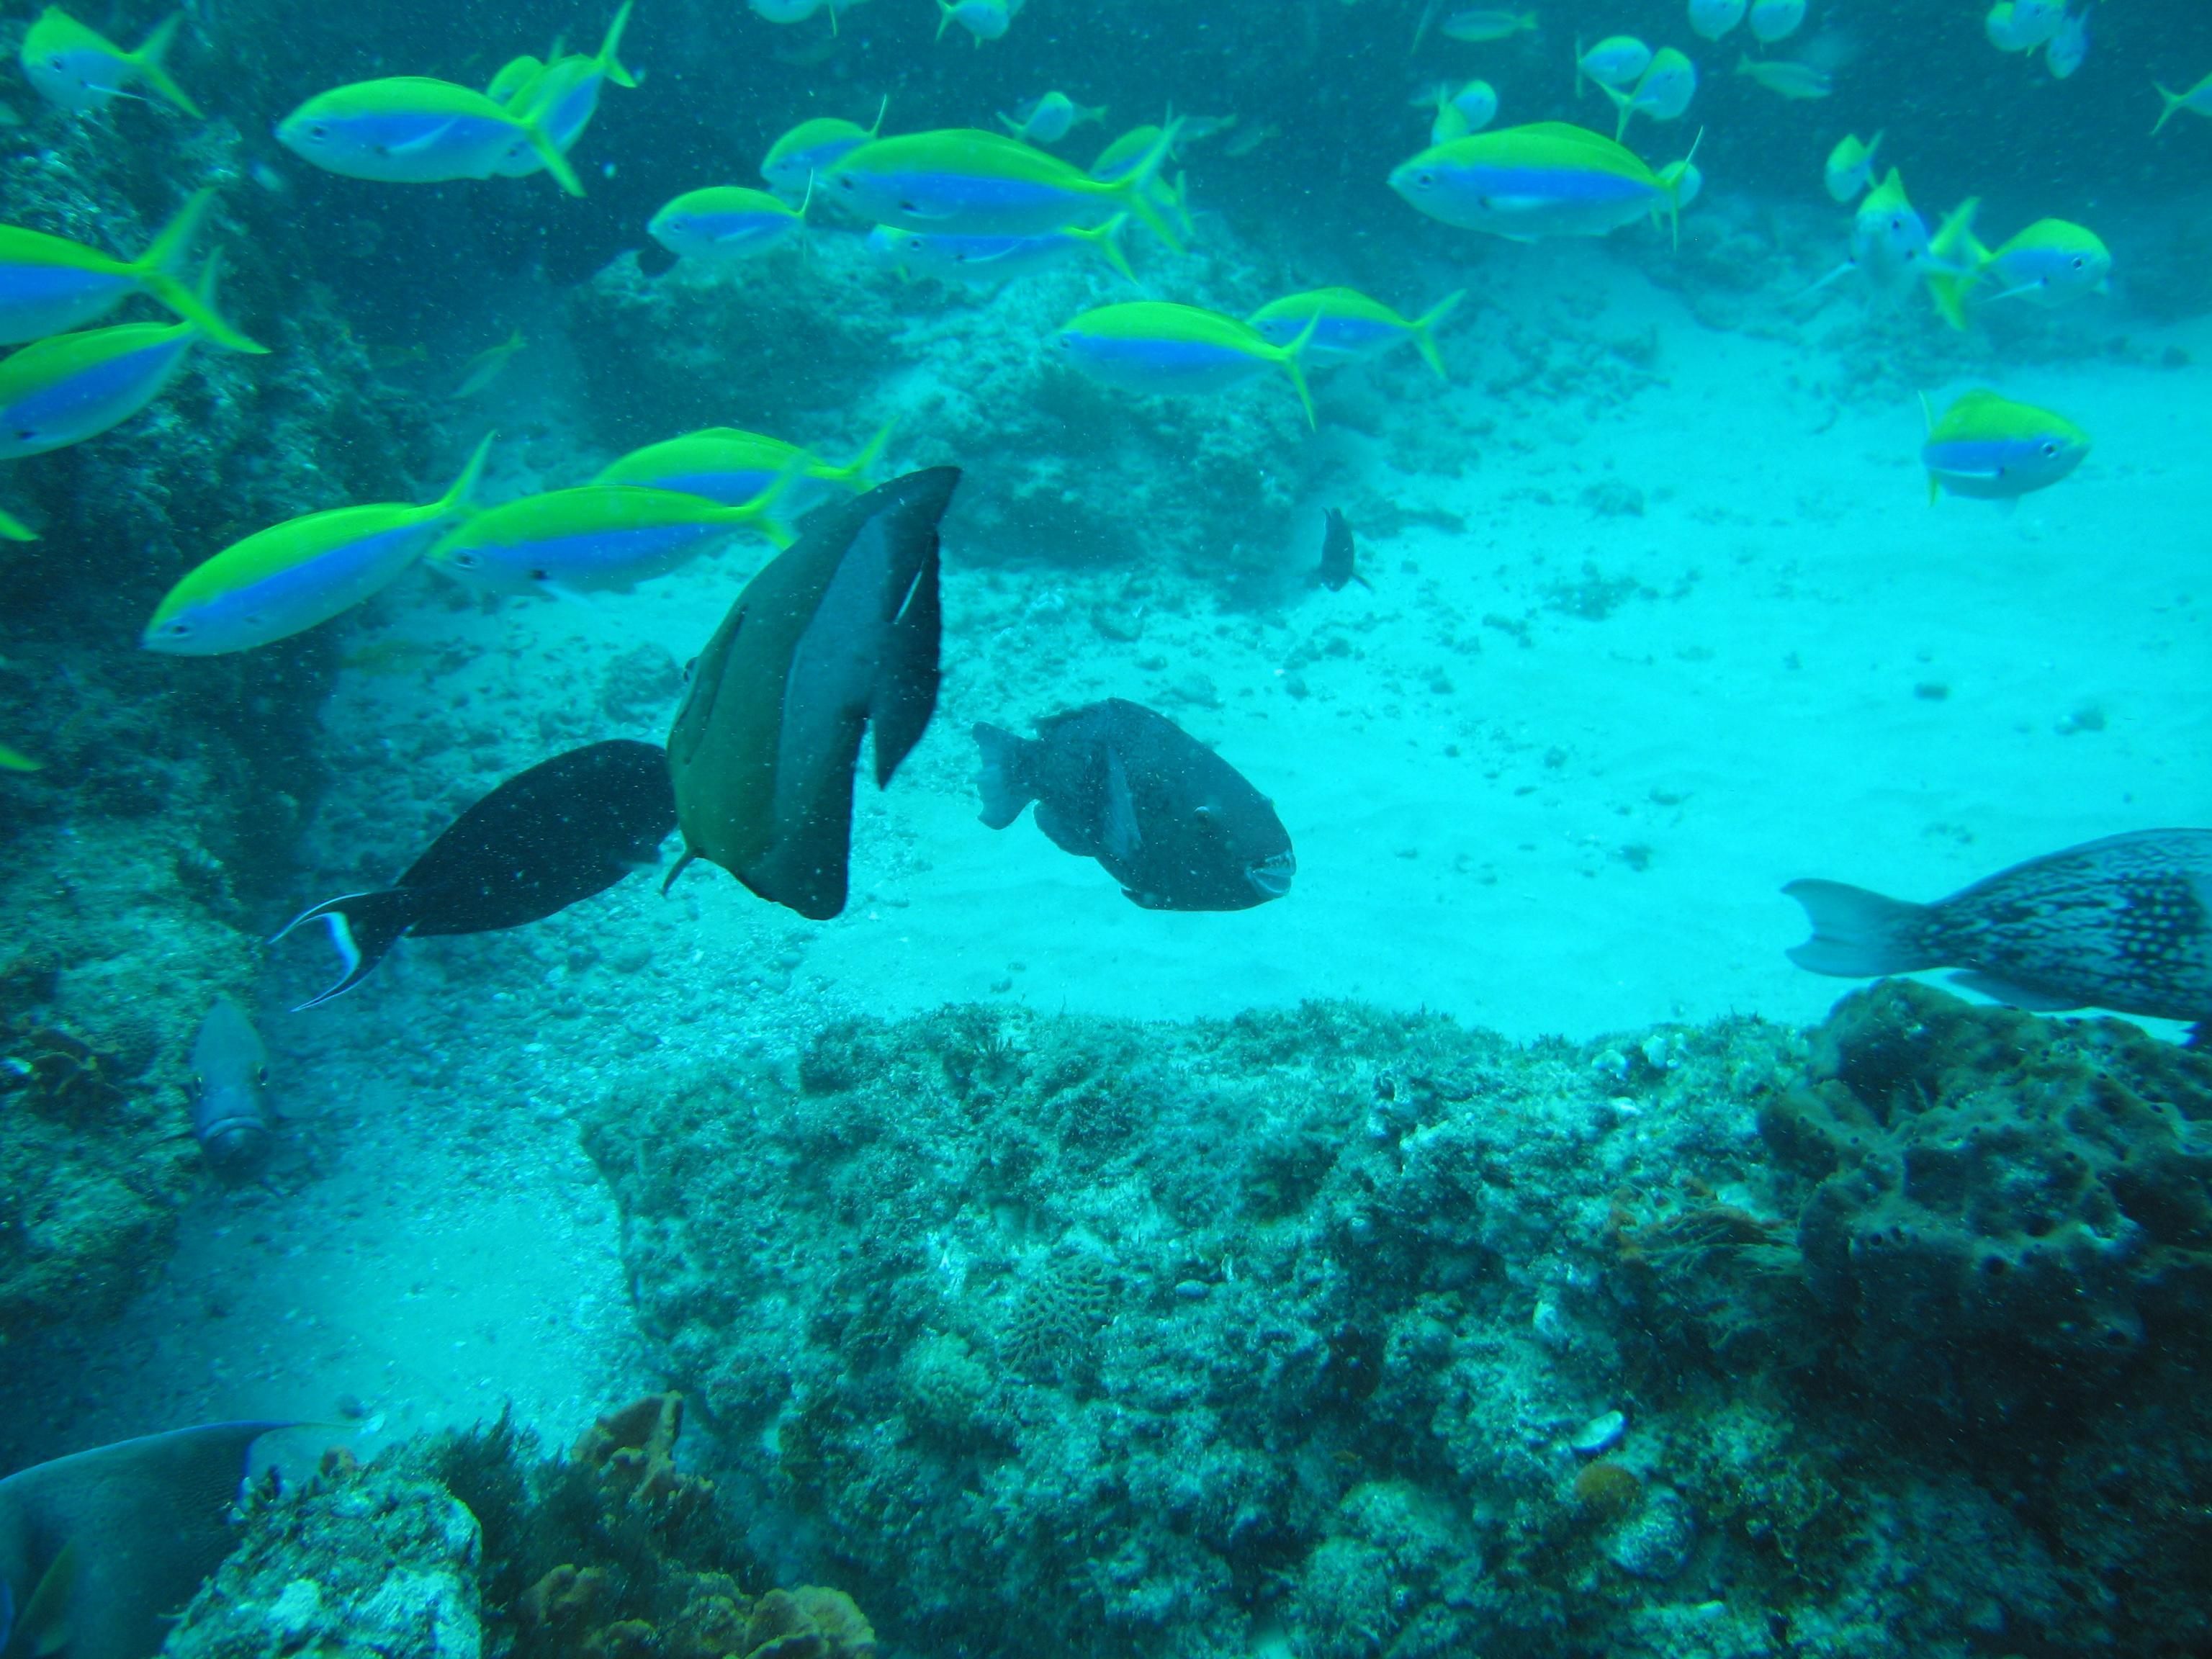Fish: (648, 450, 1036, 946)
